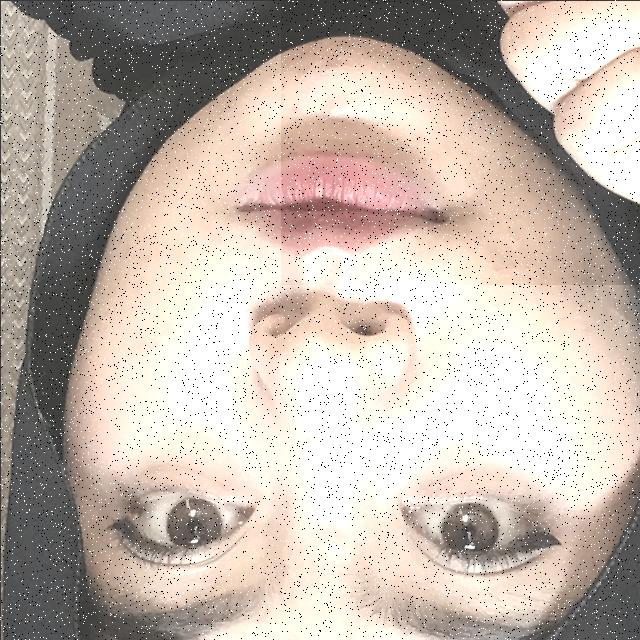sedih: (280, 0, 640, 284)
